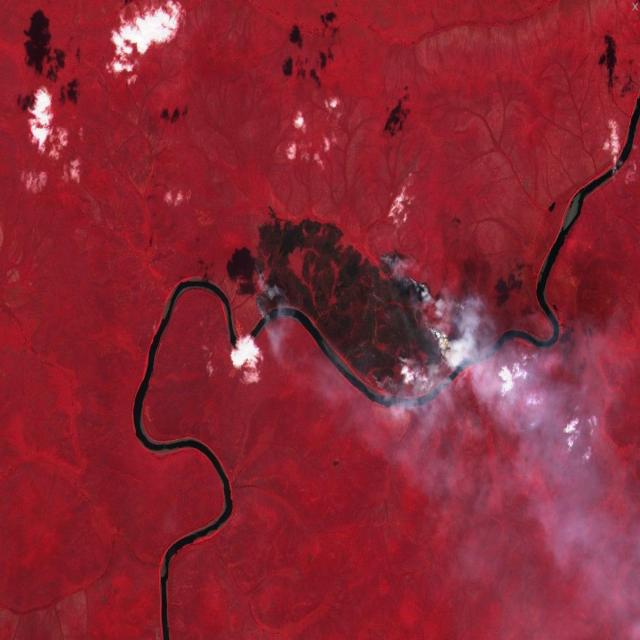fire: (396, 255, 490, 403)
